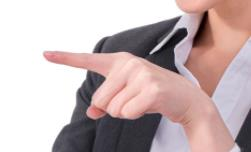up: (39, 47, 185, 126)
